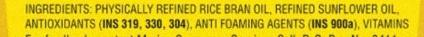ingredients: (21, 3, 418, 33)
